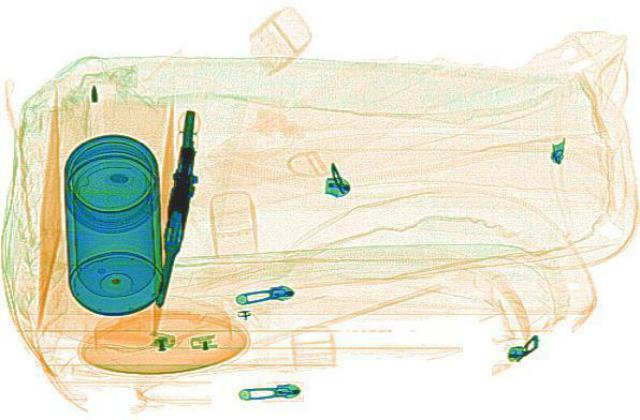Gun: (148, 109, 206, 307)
